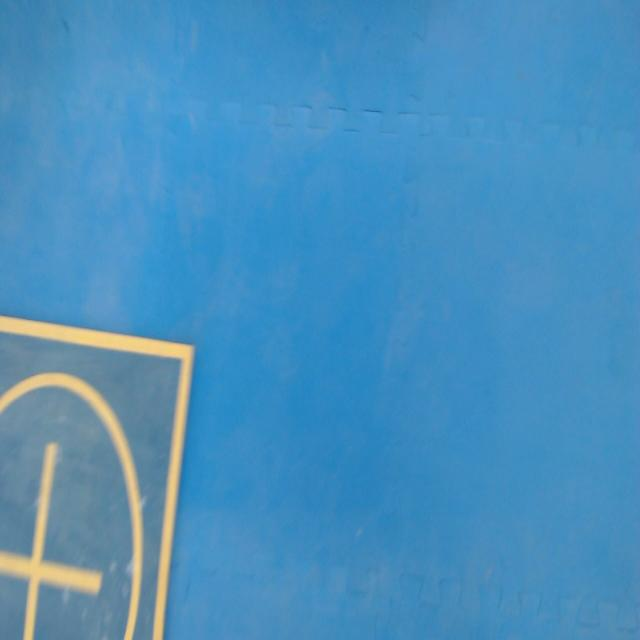base_pouso: (0, 314, 195, 639)
